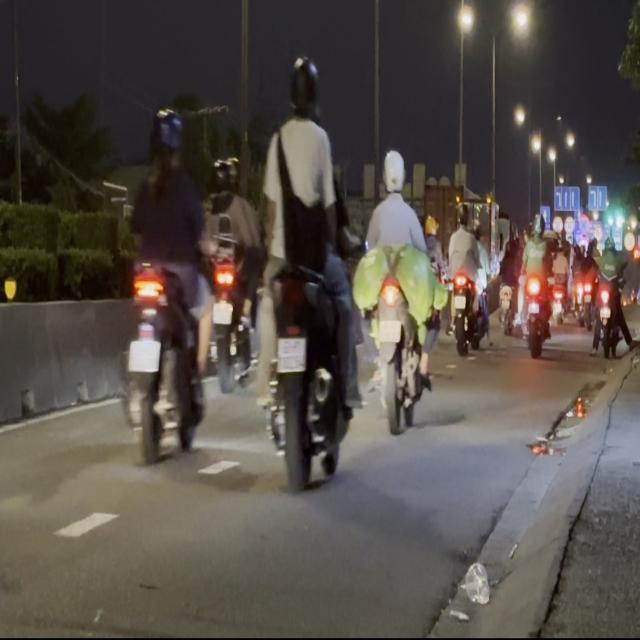helmet: (286, 55, 319, 118), (150, 107, 183, 167), (381, 148, 405, 194)
licenseplate: (256, 52, 359, 486), (121, 104, 212, 461), (353, 147, 438, 432)
nohelmet: (128, 339, 160, 371), (276, 337, 305, 371), (378, 318, 400, 341), (212, 302, 232, 323)
